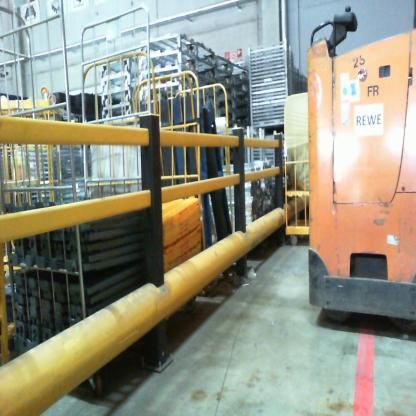pallet_truck: (304, 3, 415, 336)
